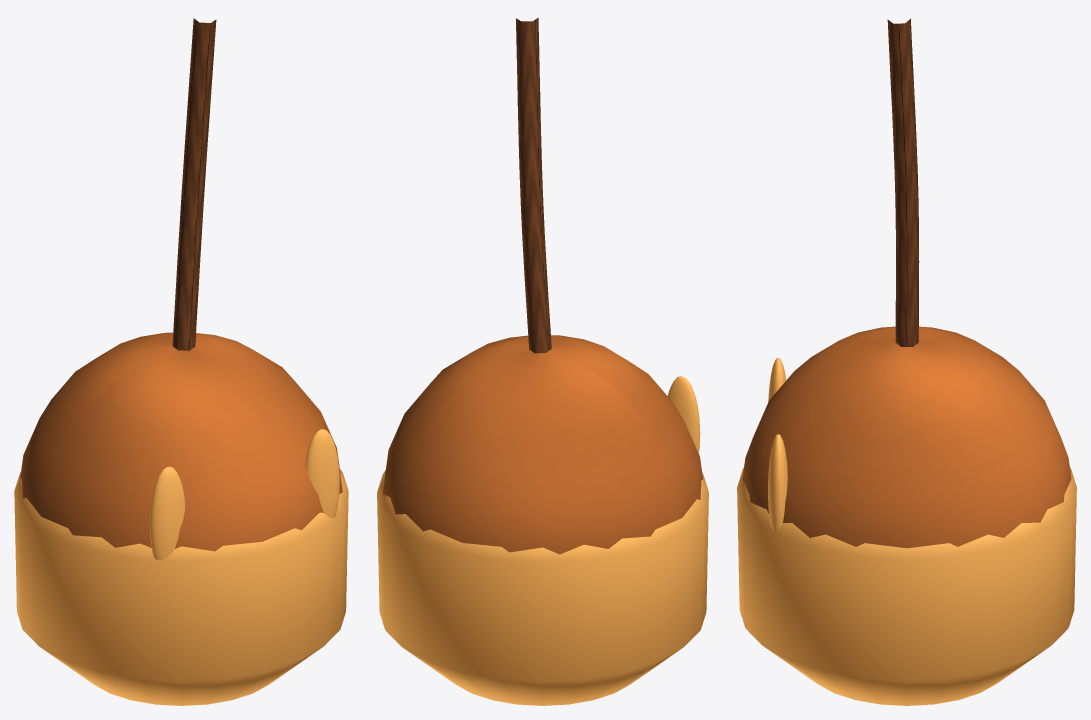
The model's file is hollowwick-halloween-caramel-apple-67954fda__21651.glb.
3 views of the same model, side by side, from view 1: azimuth 30°, elevation 25°; view 2: azimuth 150°, elevation 25°; view 3: azimuth 270°, elevation 25° (orthographic). The views are drawn at different scales.
Visible parts, largest first — view 1: caramel-apple; view 2: caramel-apple; view 3: caramel-apple.
Part boxes in pixels (x1=…): caramel-apple: x1=14, y1=18, x2=348, y2=705; caramel-apple: x1=377, y1=18, x2=708, y2=705; caramel-apple: x1=737, y1=18, x2=1076, y2=705.
Size of the model in its own units: 0.264 by 0.5606 by 0.264.
3 materials, 2 textured.
